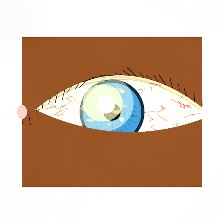corneal_ulcer: (70, 77, 135, 129)
